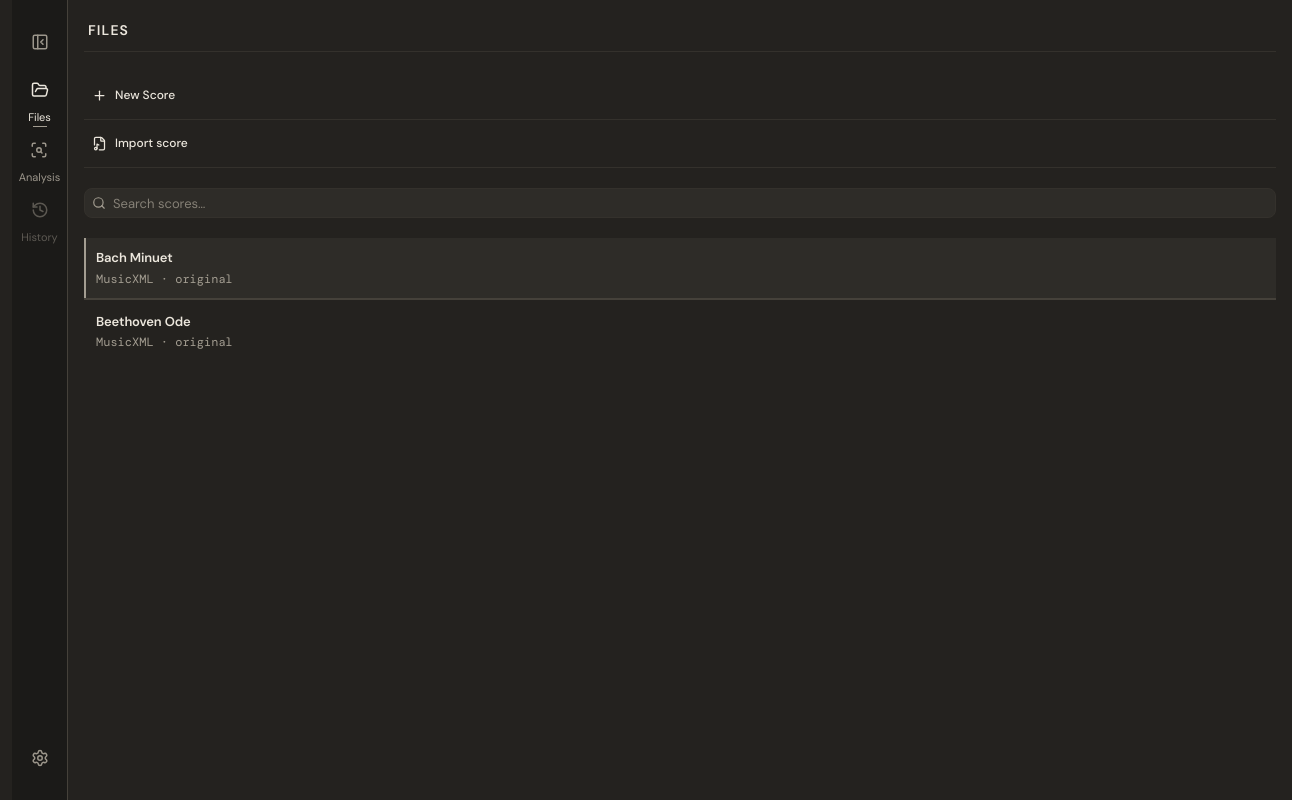
Test: FileRail Component › renders context menu with Open, Duplicate, Export, and Delete items
Right-click the button with aria-label "Open Bach Minuet" at coordinates (134, 258), box left=84, top=238, right=1276, bottom=298
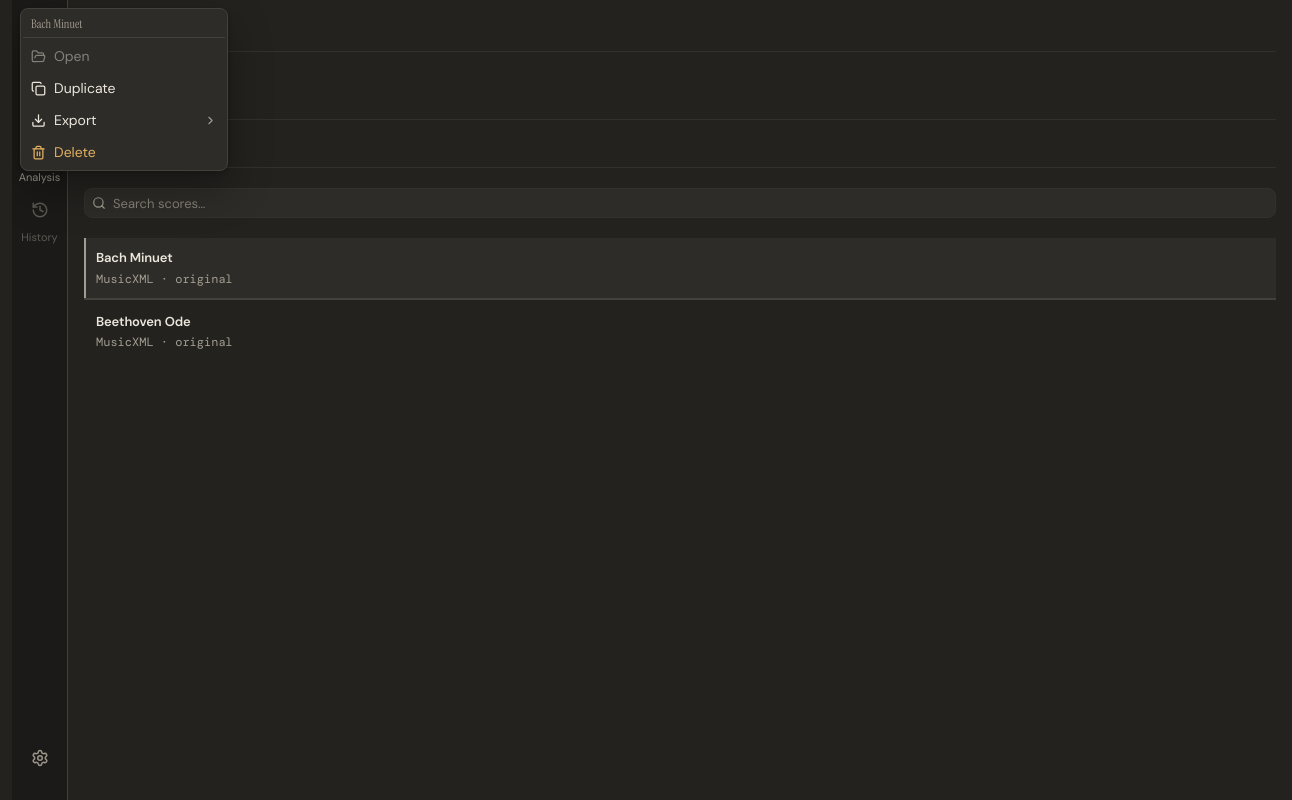
Expected: the menu item "Open" is shown, left=23, top=40, right=225, bottom=72
Expected: the menu item "Duplicate" is shown, left=23, top=72, right=225, bottom=104
Expected: the menu item "Export" is shown, left=23, top=104, right=225, bottom=136
